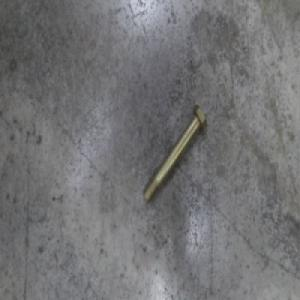Bolt: (142, 101, 207, 204)
